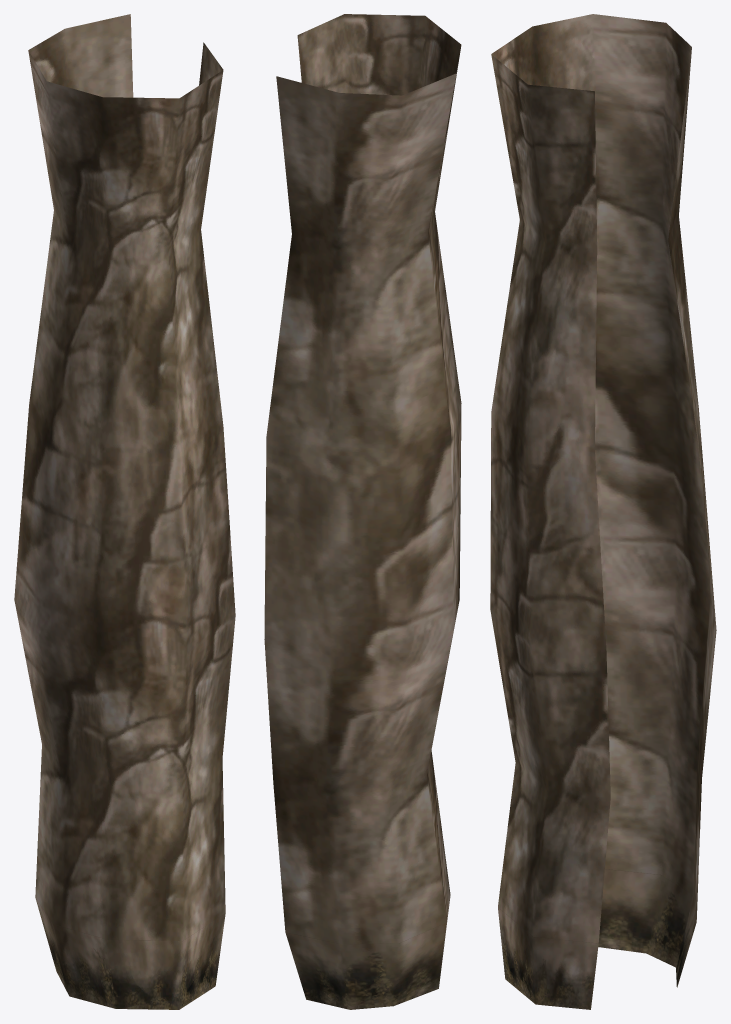
File: OVERHILL_A_01_LINE347.fbx
3 views of the same model, side by side, from view 1: azimuth 30°, elevation 25°; view 2: azimuth 150°, elevation 25°; view 3: azimuth 270°, elevation 25° (orthographic).
Parts seen in each view (by area): view 1: OVERHILL_A_01_LINE347; view 2: OVERHILL_A_01_LINE347; view 3: OVERHILL_A_01_LINE347.
Boxes of the visible parts, left/top/right/bottom form: OVERHILL_A_01_LINE347: left=14, top=14, right=235, bottom=1009; OVERHILL_A_01_LINE347: left=264, top=14, right=461, bottom=1009; OVERHILL_A_01_LINE347: left=490, top=14, right=716, bottom=1009.
Bounding box in the file's own units: 21862 × 109001 × 24233.
Materials: 2 (2 with a texture image).
